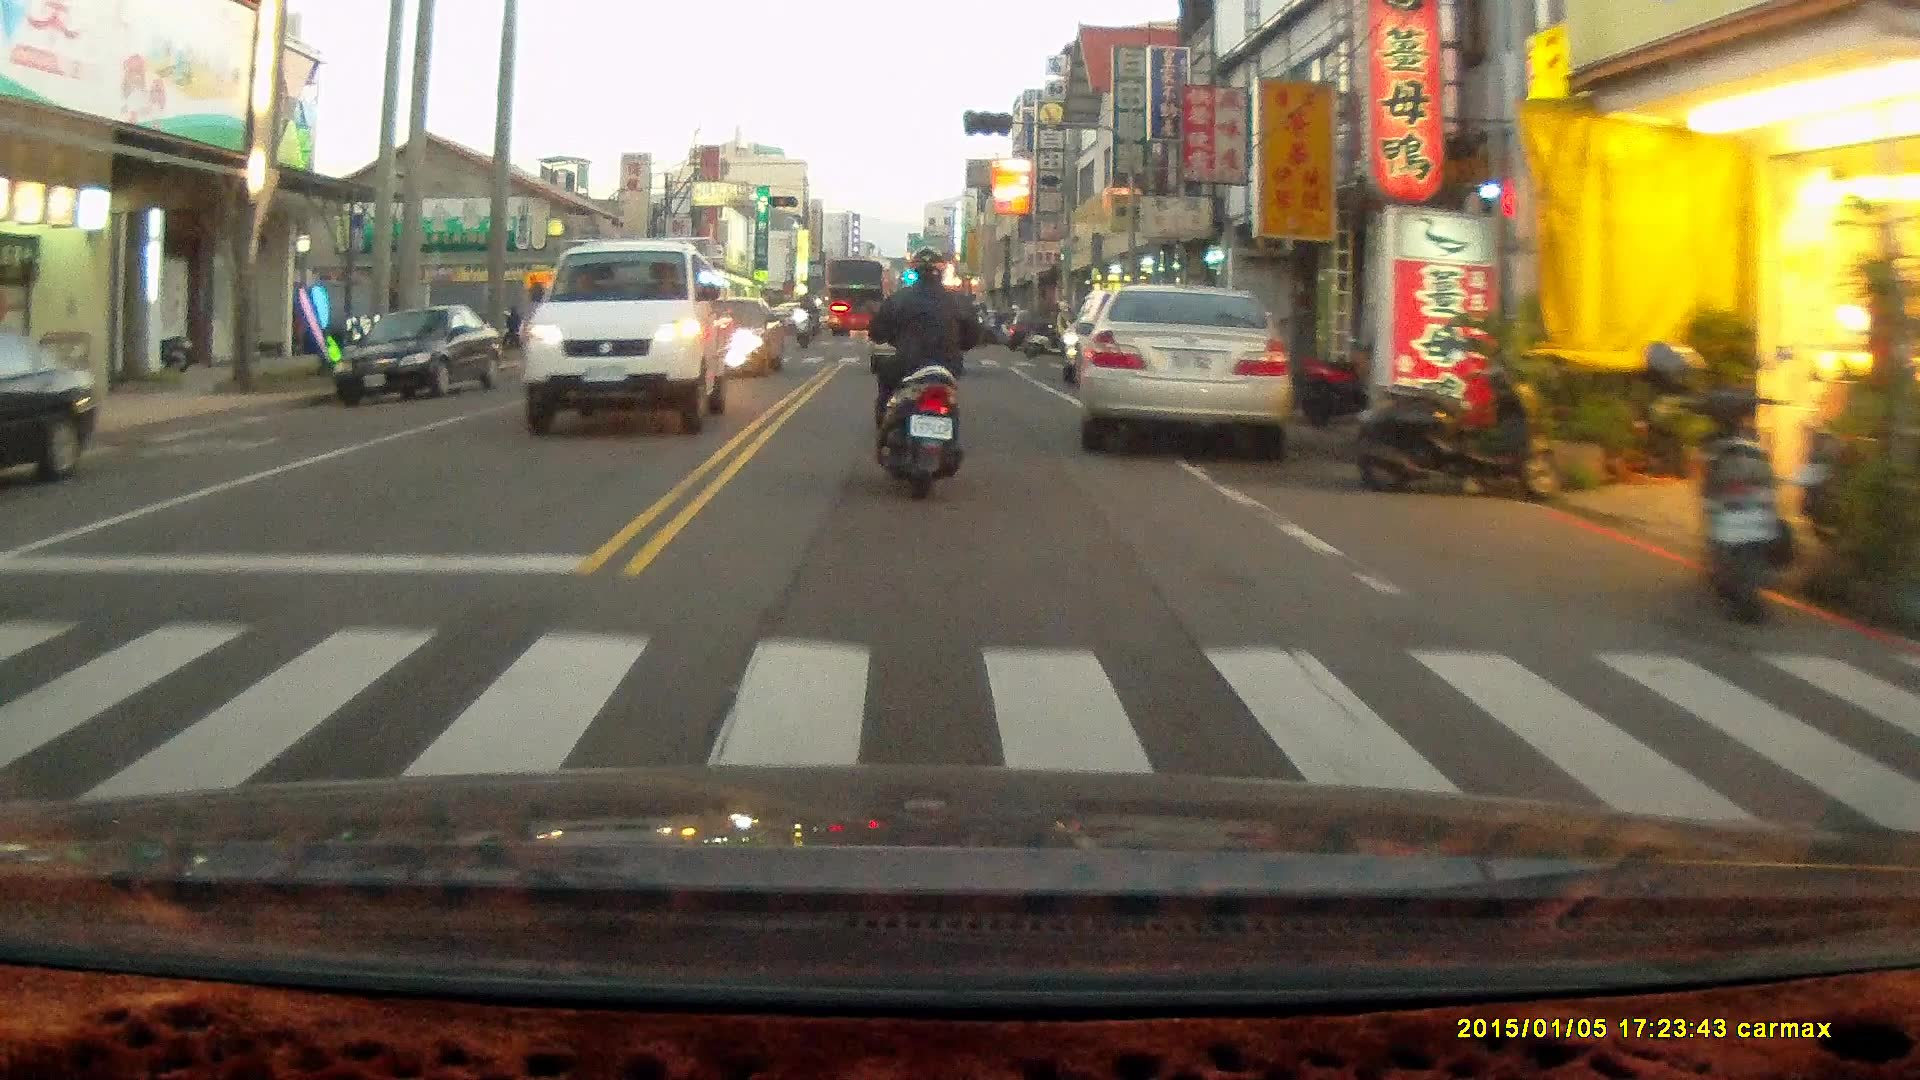rider: (863, 245, 983, 500)
vehicle: (522, 237, 726, 437), (1073, 279, 1295, 463), (334, 307, 502, 405), (1, 332, 103, 490)
